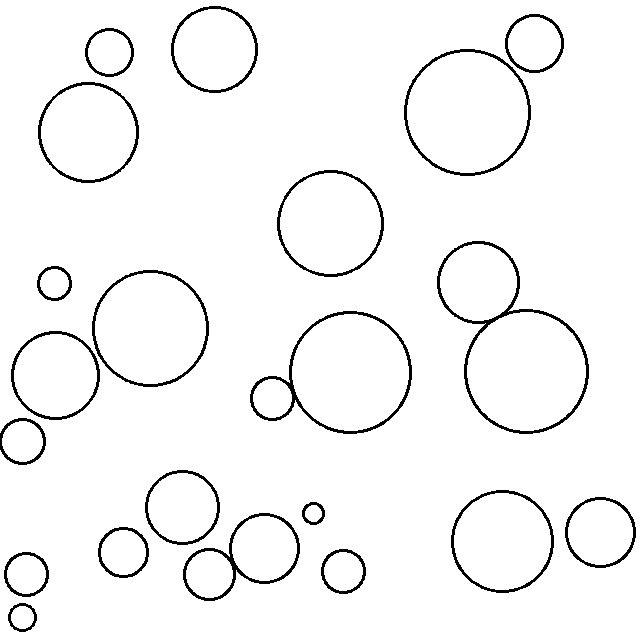circle: (401, 43, 533, 180), (460, 306, 589, 438), (288, 307, 414, 437), (91, 267, 210, 390), (275, 165, 385, 281), (449, 486, 556, 597), (34, 79, 143, 187), (10, 328, 103, 423), (170, 3, 261, 98), (432, 236, 522, 327), (143, 464, 223, 548), (562, 494, 637, 570), (229, 510, 302, 588), (502, 9, 567, 77), (181, 544, 237, 604), (96, 525, 152, 580), (84, 25, 138, 80), (318, 546, 369, 597), (0, 415, 49, 468), (249, 372, 298, 424), (2, 550, 53, 599), (35, 264, 74, 303), (6, 601, 40, 636), (302, 497, 328, 528)
